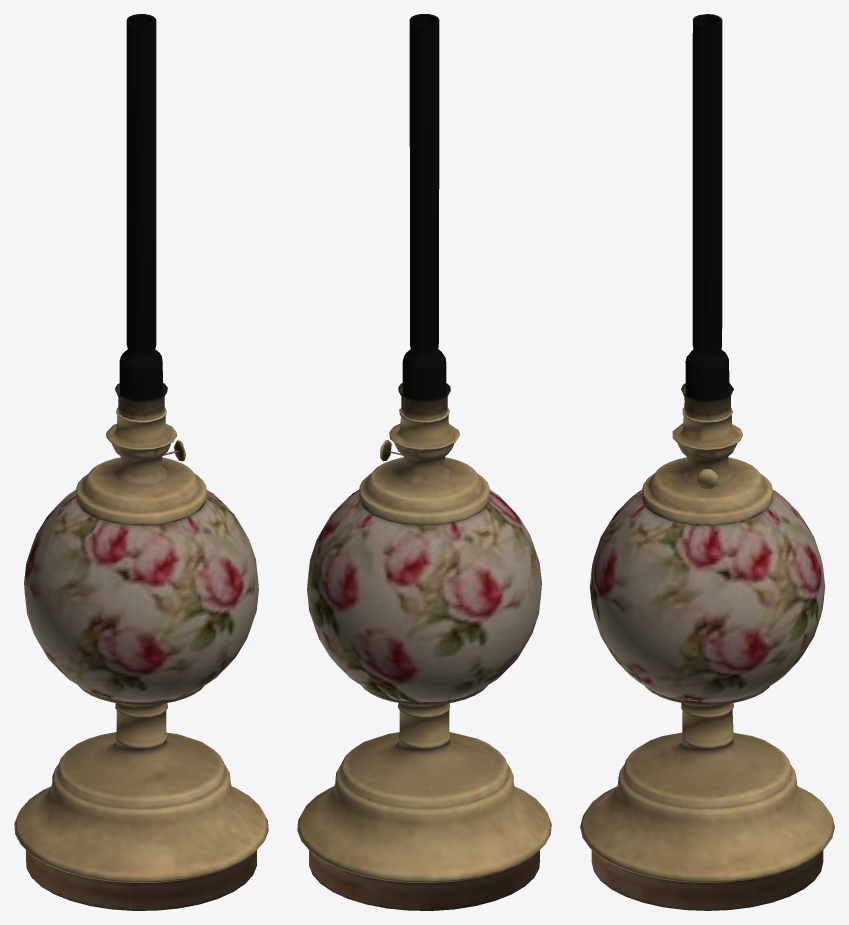
The model's file is vintage_oil_lamp.glb.
3 views of the same model, side by side, from view 1: azimuth 30°, elevation 25°; view 2: azimuth 150°, elevation 25°; view 3: azimuth 270°, elevation 25° (orthographic).
Parts seen in each view (by area): view 1: vintage_oil_lamp, vintage_oil_lamp_glass; view 2: vintage_oil_lamp, vintage_oil_lamp_glass; view 3: vintage_oil_lamp, vintage_oil_lamp_glass.
Part boxes in pixels (x1,y1,x2,y2): vintage_oil_lamp: (14,407,268,910); vintage_oil_lamp_glass: (115,14,167,420); vintage_oil_lamp: (297,407,551,910); vintage_oil_lamp_glass: (398,14,450,420); vintage_oil_lamp: (580,407,834,910); vintage_oil_lamp_glass: (681,14,733,420).
Bounding box in the file's own units: 0.22 × 0.8016 × 0.22.
Materials: 3 (3 with a texture image).
